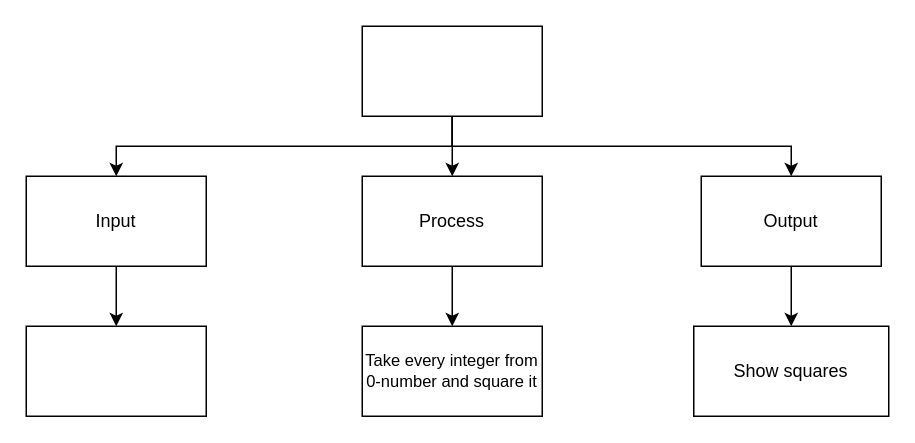
This 915x443 diagram has some shape labels left out. Each missing label, with the centre of its shape:
"Get number" goes at (115,370).
"Power program" goes at (451,70).
